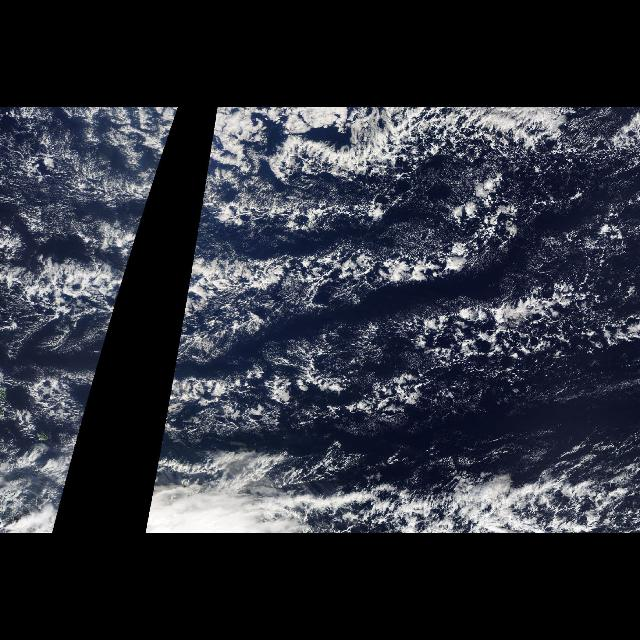Fish: (166, 109, 604, 438), (18, 156, 164, 414)
Gravel: (162, 174, 626, 444), (40, 174, 158, 436)
